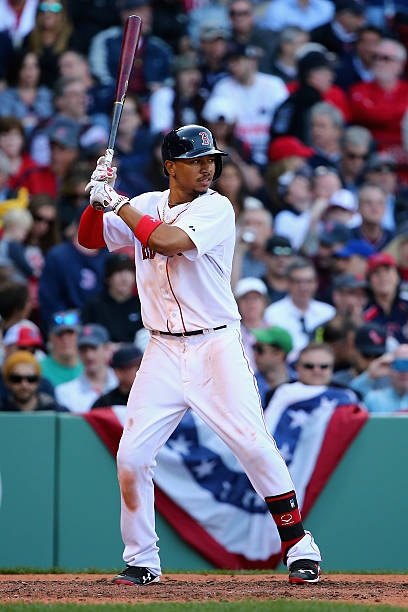bita: (97, 16, 148, 178)
